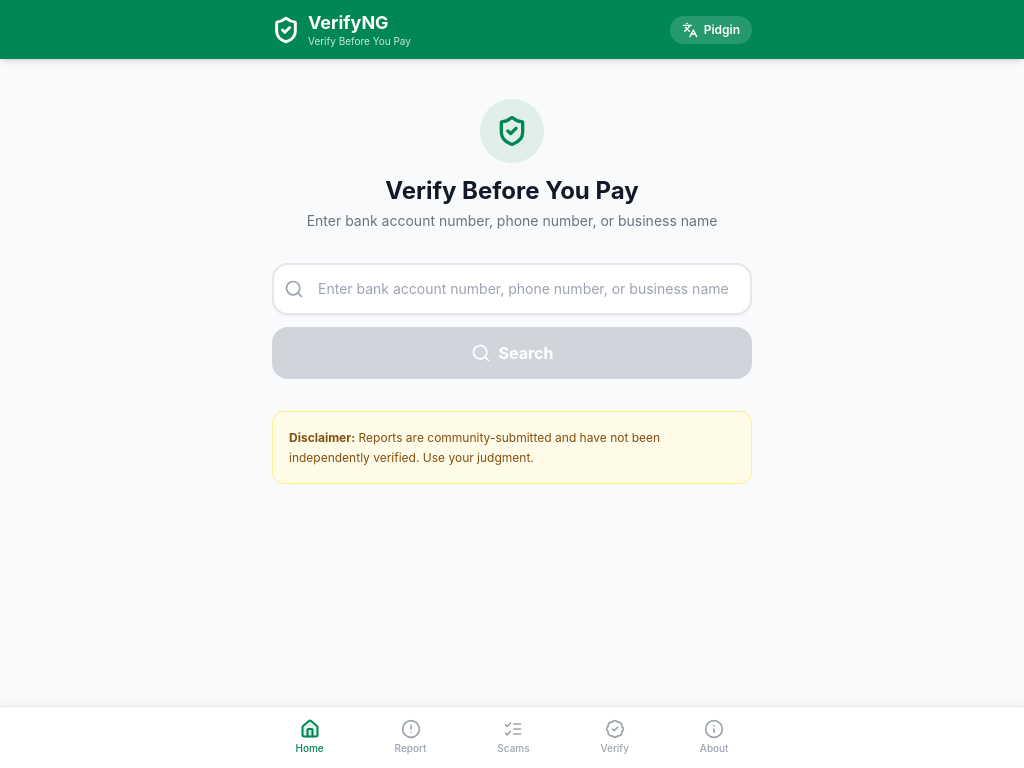
App navigation › toggles the UI language from the header
The image size is (1024, 768).
What coordinates should you click on to do the following:
click the button "Pidgin"
I would click on:
 (711, 30)
Its box is left=670, top=16, right=752, bottom=44.
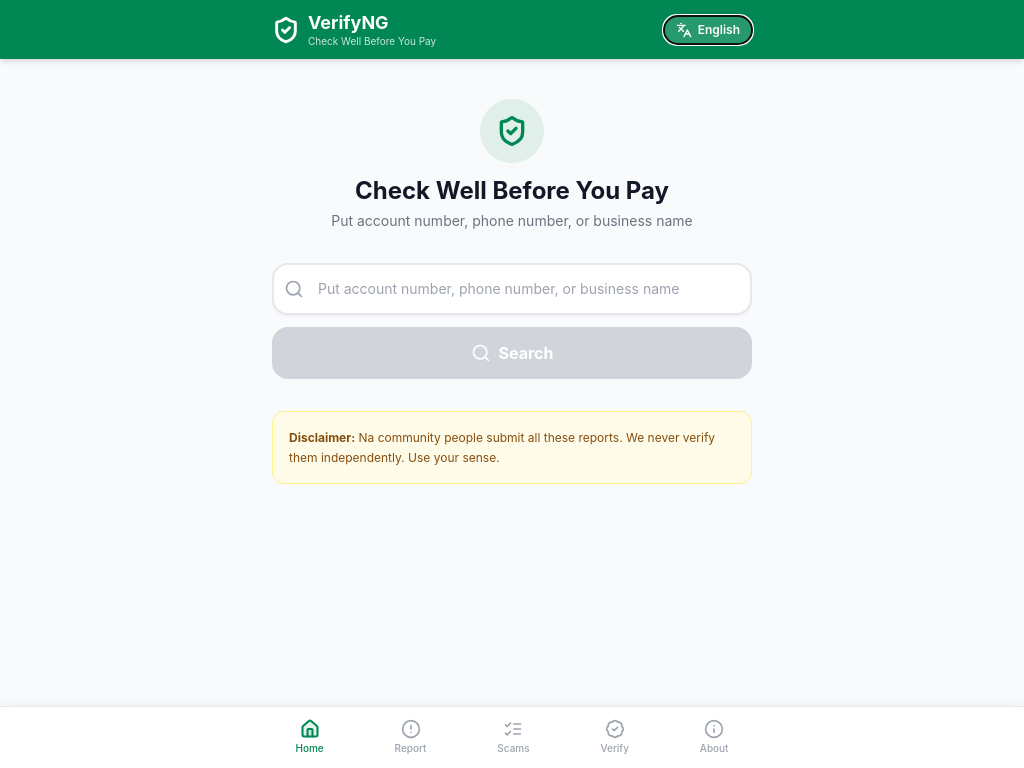
Check: the button "English" is shown, box left=664, top=16, right=752, bottom=44
